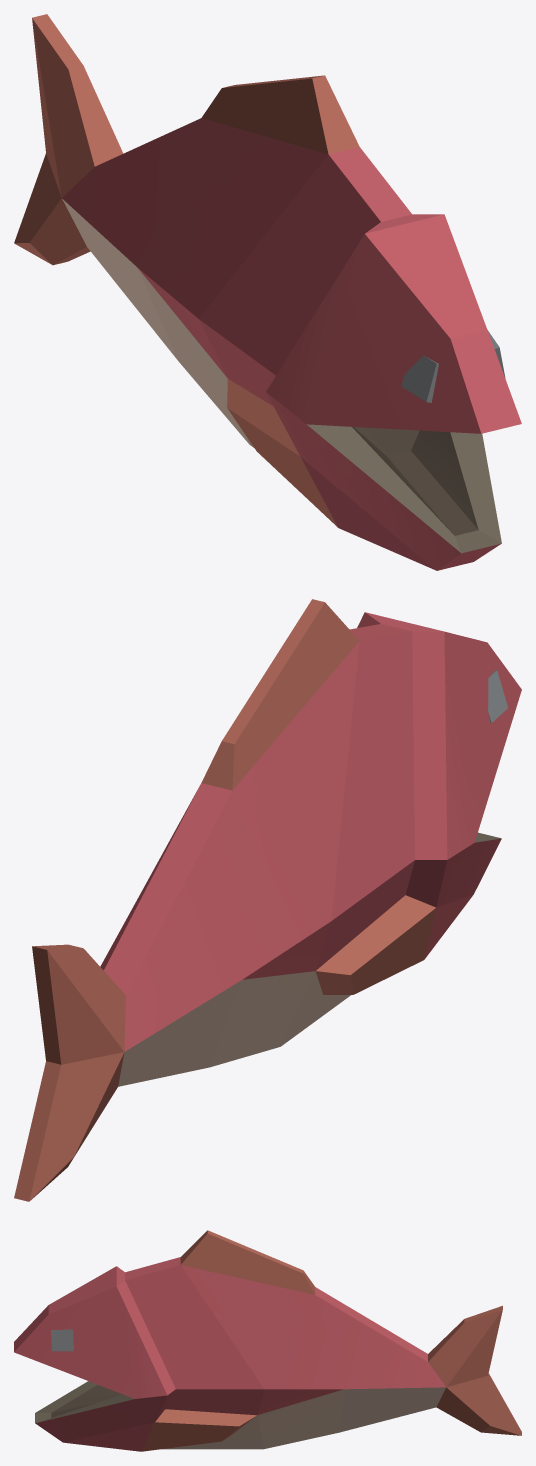
The model's file is kingdom_SM_Item_Meat_Fish_02.gltf.
The picture shows the model from 3 angles, top to bottom: view 1: azimuth 30°, elevation 25°; view 2: azimuth 150°, elevation 25°; view 3: azimuth 270°, elevation 25°; orthographic projection. The views are drawn at different scales.
Visible parts, largest first — view 1: SM_Item_Meat_Fish_02; view 2: SM_Item_Meat_Fish_02; view 3: SM_Item_Meat_Fish_02.
Boxes of the visible parts, left/top/right/bottom form: SM_Item_Meat_Fish_02: left=14, top=14, right=521, bottom=570; SM_Item_Meat_Fish_02: left=14, top=599, right=521, bottom=1201; SM_Item_Meat_Fish_02: left=14, top=1230, right=521, bottom=1451.
Size of the model in its own units: 0.1375 by 0.292 by 0.6302.
Materials: 1 (1 with a texture image).
